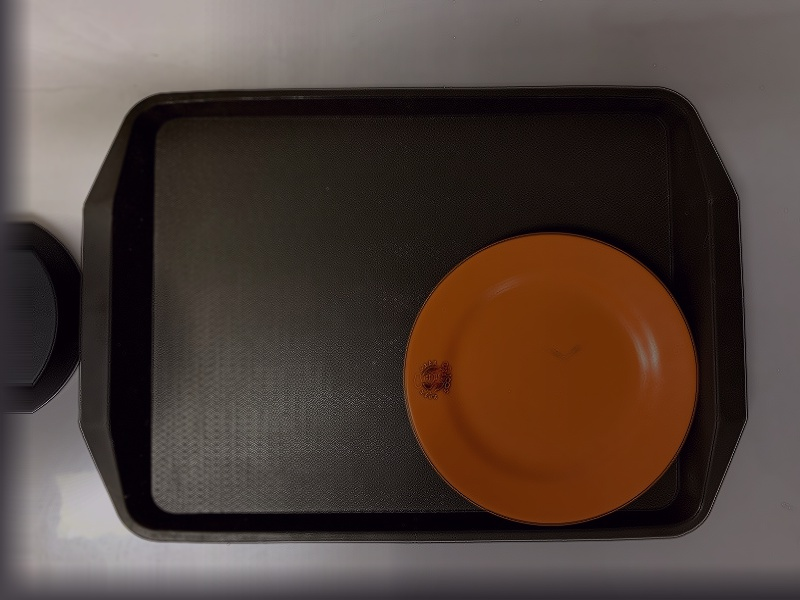dish10: (396, 223, 701, 525)
